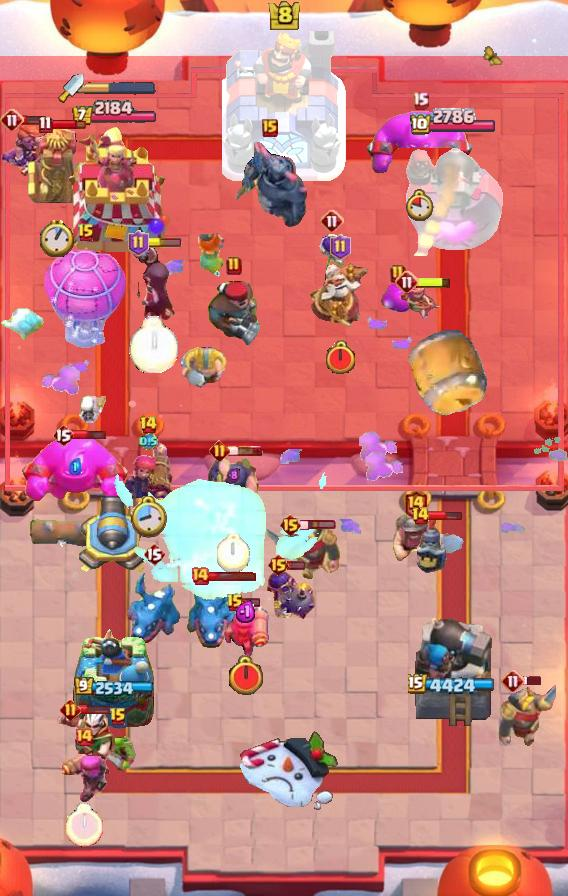archer: (399, 278, 441, 322)
bar: (207, 571, 257, 582), (416, 276, 452, 289), (72, 428, 107, 441), (300, 519, 337, 531), (227, 445, 263, 457), (79, 703, 114, 715), (428, 510, 463, 522), (51, 118, 86, 130), (13, 114, 46, 126), (146, 238, 182, 248), (523, 675, 543, 686), (242, 597, 261, 608), (287, 560, 306, 571)
bar-level: (403, 489, 428, 520), (501, 669, 525, 693), (395, 270, 419, 294), (320, 209, 344, 233), (0, 108, 24, 132), (267, 553, 290, 577), (279, 513, 302, 537), (330, 234, 351, 260), (128, 230, 149, 256), (143, 542, 165, 566), (52, 423, 74, 447), (60, 699, 81, 720), (209, 440, 230, 461), (74, 727, 94, 747), (190, 566, 210, 586), (411, 506, 430, 526), (139, 415, 158, 435), (109, 707, 127, 727), (226, 593, 244, 613), (77, 223, 95, 243), (412, 91, 429, 110), (390, 264, 406, 284), (226, 256, 242, 276), (262, 119, 278, 137), (38, 115, 53, 134)
bomber-evolution: (263, 568, 317, 624)
cannoneer-tower: (403, 138, 504, 256), (410, 611, 496, 731)
clock: (129, 316, 178, 373), (65, 803, 103, 847), (227, 655, 265, 697), (130, 496, 167, 539), (40, 219, 74, 257), (217, 534, 250, 572), (324, 340, 357, 376), (406, 189, 434, 221)
dagger-duchess-tower: (55, 126, 173, 256)
dagger-duchess-tower-bar: (84, 81, 156, 95)
electro-dragon: (126, 571, 182, 647), (185, 578, 239, 650)
elite-barbarian: (180, 345, 228, 388)
elixir: (235, 600, 257, 624), (139, 433, 158, 450), (227, 467, 240, 484), (69, 458, 82, 475)
elixir-golem-small: (380, 284, 416, 314)
executioner: (206, 455, 260, 525)
firecracker: (59, 751, 109, 805), (222, 606, 270, 656)
firecracker-evolution: (120, 436, 176, 498)
goblin: (99, 730, 137, 772)
guard: (412, 514, 456, 574)
hunter: (205, 279, 263, 349)
ice-spirit: (0, 305, 48, 343)
king-tower: (222, 31, 346, 181)
knight: (265, 521, 341, 580), (498, 685, 556, 748)
miner: (393, 503, 465, 569)
night-witch: (130, 239, 176, 327)
queen-tower: (72, 627, 156, 731)
skeleton: (73, 391, 112, 429)
skeleton-evolution: (317, 233, 347, 273)
tesla: (26, 124, 88, 208)
the-log: (28, 512, 128, 550)
tower-bar: (409, 108, 497, 137), (71, 100, 158, 127), (408, 674, 499, 697), (74, 677, 154, 698)
valkyrie: (193, 228, 231, 280)
valkyrie-evolution: (0, 121, 72, 179)
